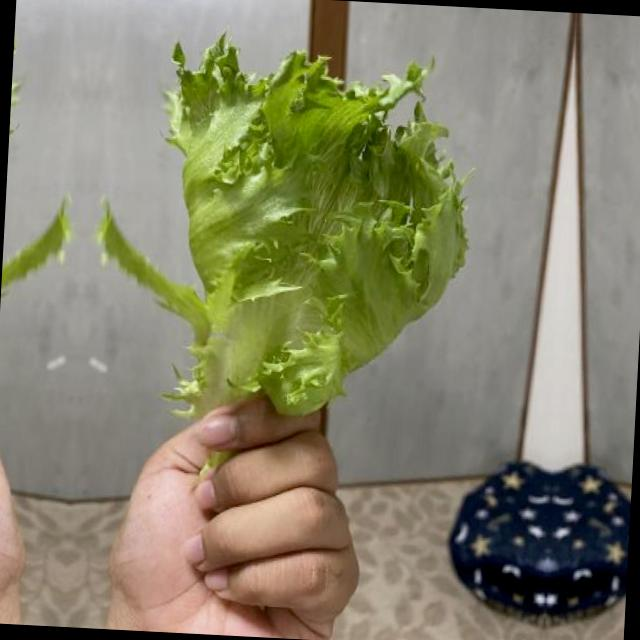healthy: (145, 31, 485, 450), (0, 22, 23, 426)
